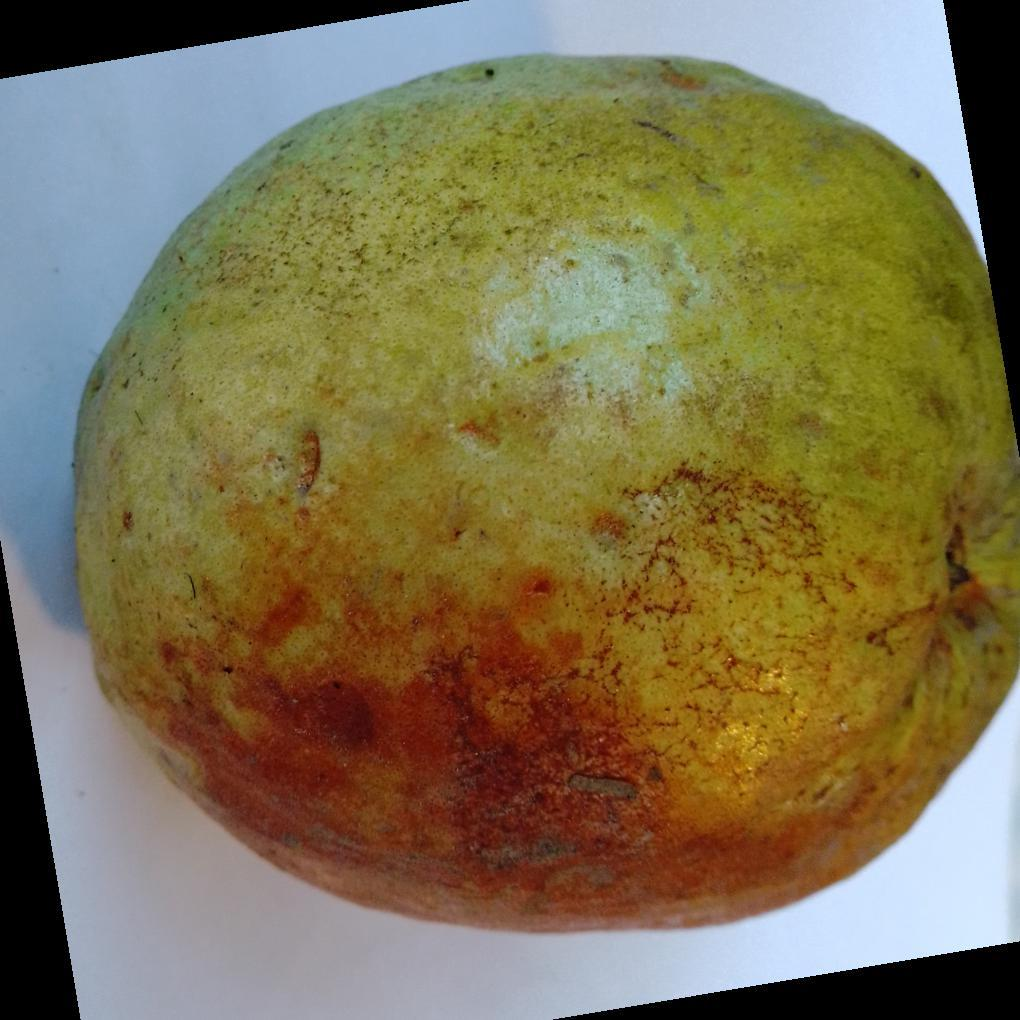FreshOrange: (70, 55, 1020, 940)
